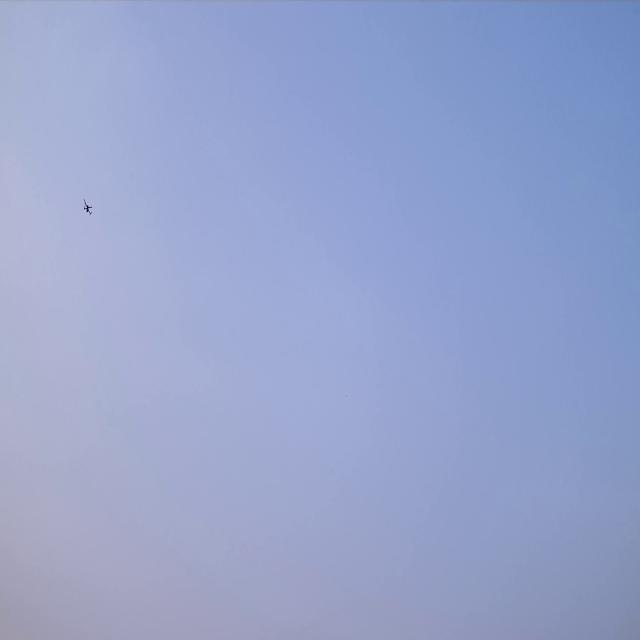UAV: (82, 197, 94, 217)
